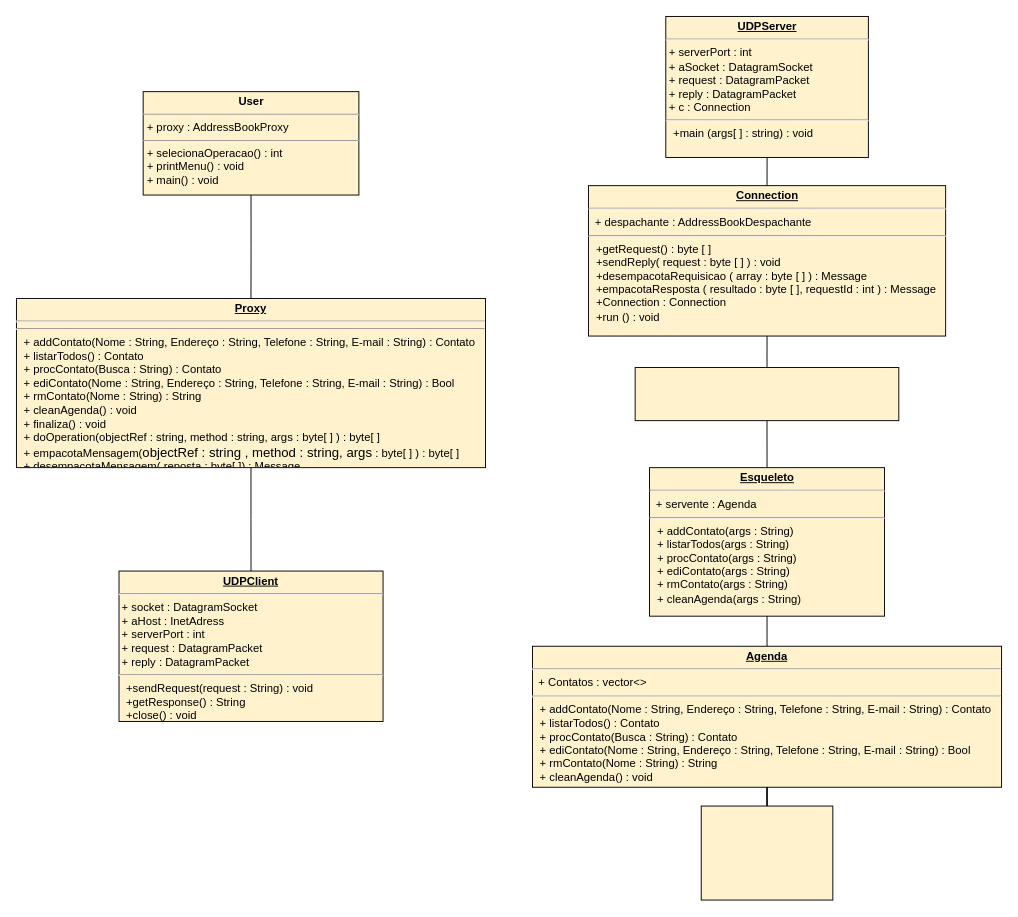
Image size: 1018x917. Some labels were removed from this diagram. Each missing label, with the centre of its shape:
"Contato + Name : String + Fone : String + Contato : Contato" goes at [766,852].
"Despachante + selecionaEsqueleto (request : Message) : byte [ ]" goes at [766,394].
